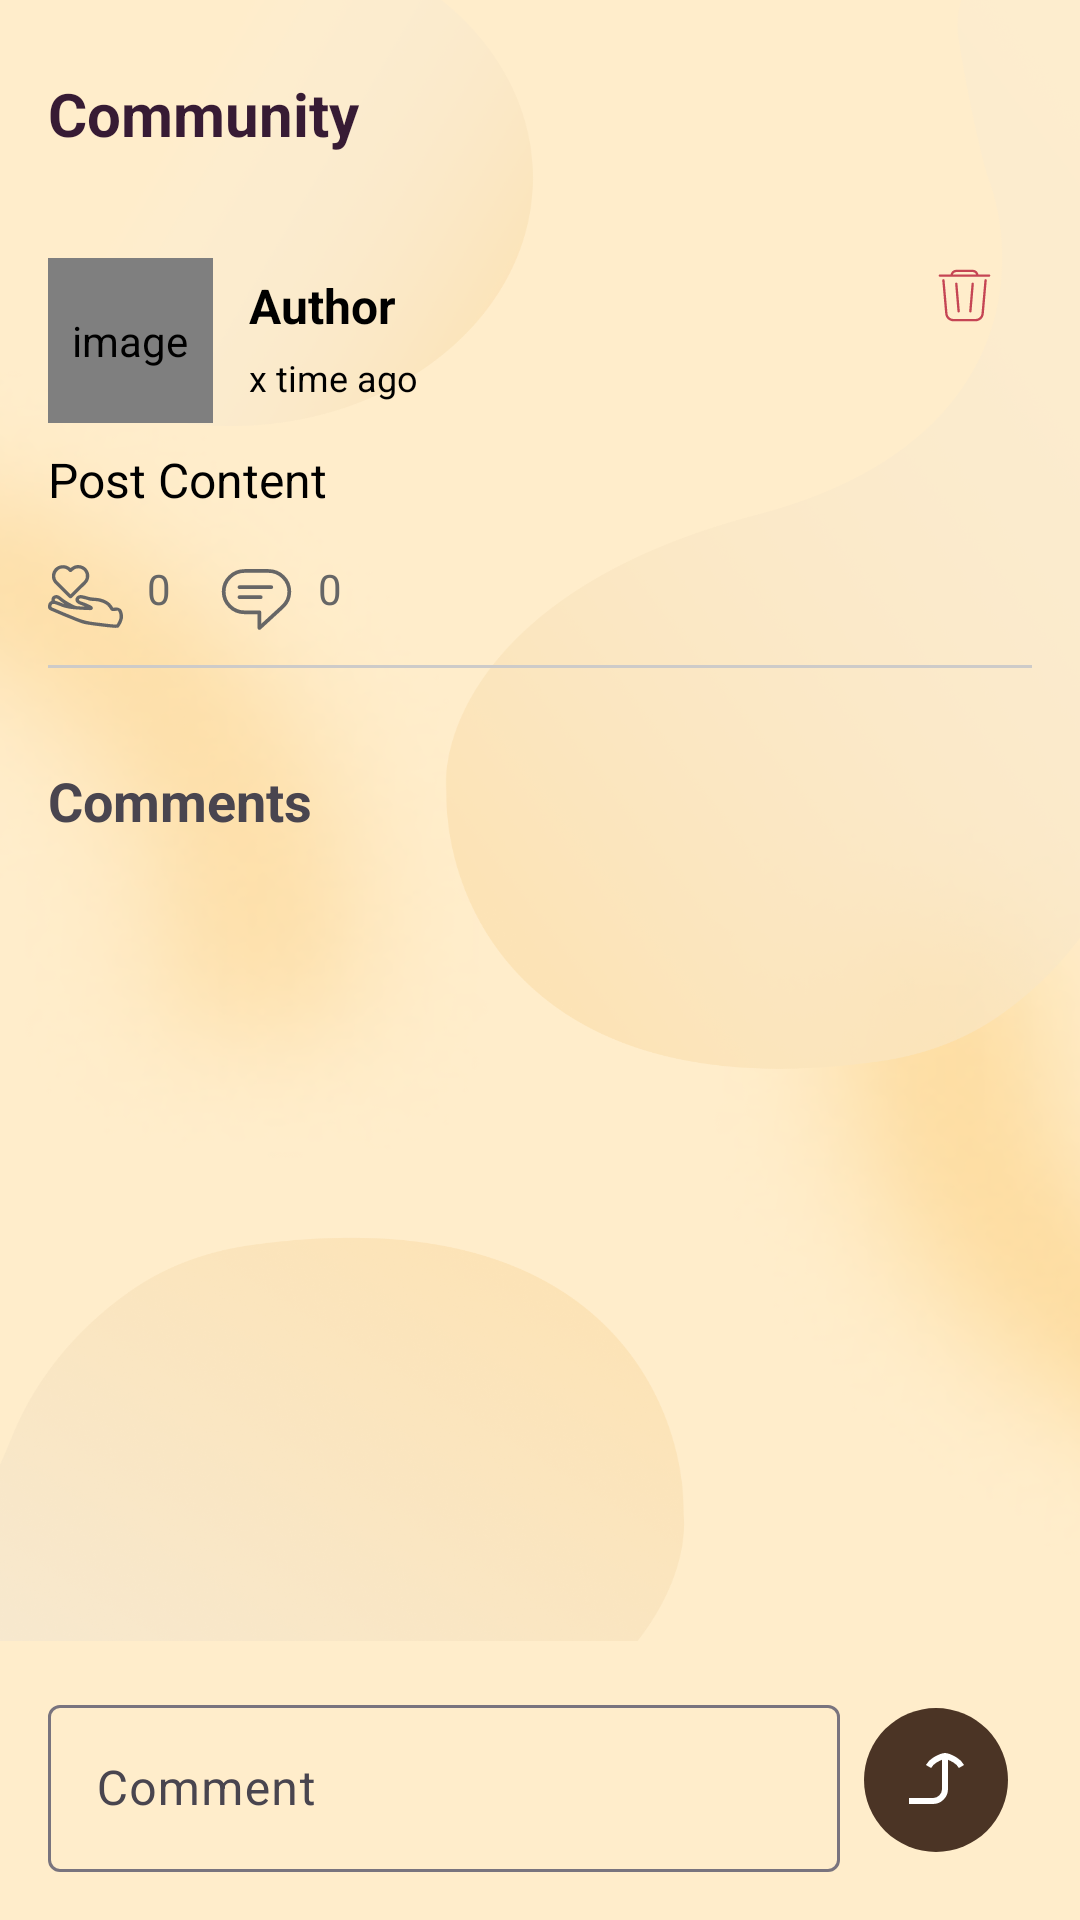

Icons on this 1080 × 1920 Android screen, each with the point to tap as [x,y]:
chat sent: [936,1780]
commentbutton: [256,599]
deletebtn: [964,295]
likebutton: [85,596]
